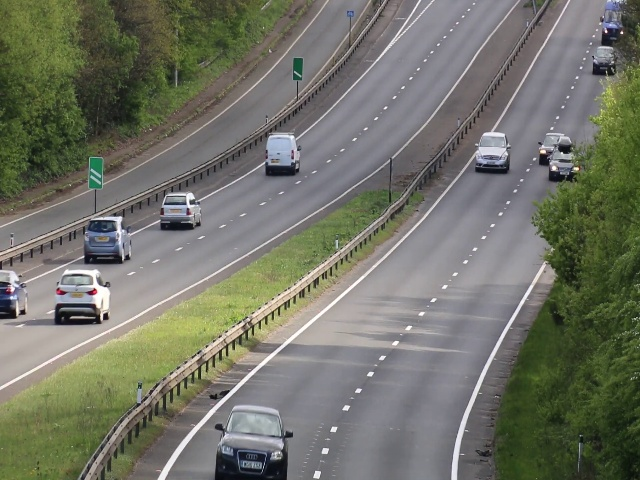car: (214, 405, 293, 478), (53, 266, 111, 324), (83, 216, 134, 264), (262, 132, 302, 175), (159, 192, 203, 228), (475, 129, 511, 172), (1, 269, 30, 316), (591, 45, 615, 74), (553, 152, 574, 181), (540, 139, 552, 163)
